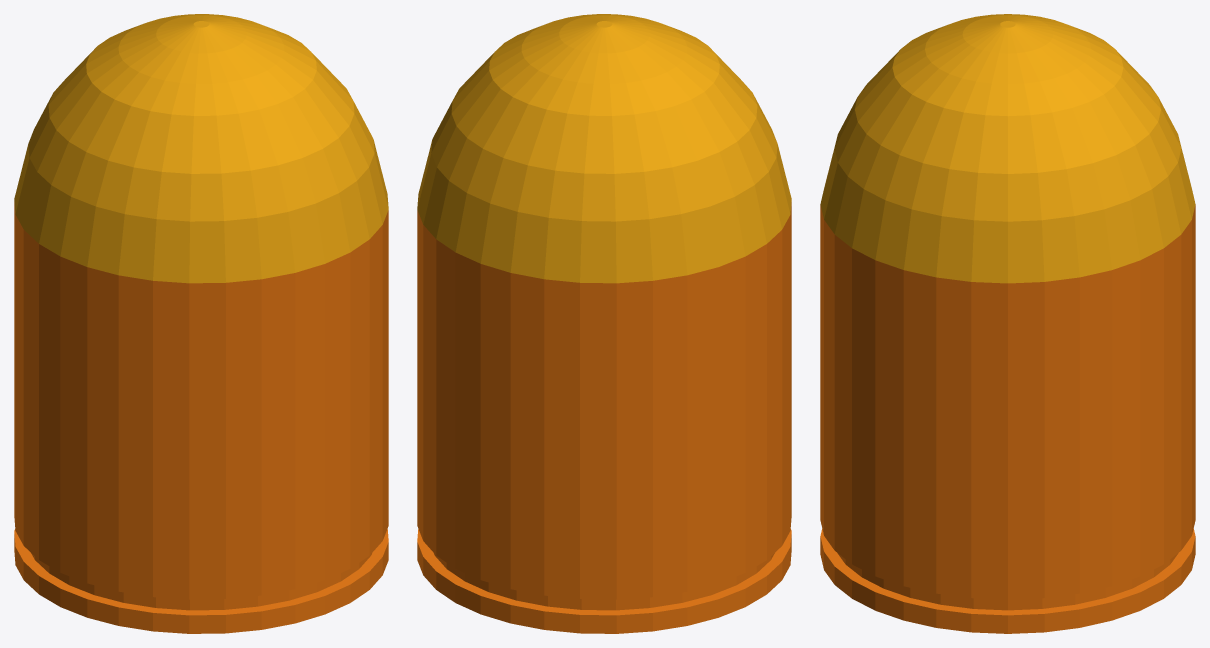
File: Bullet.fbx
3 views of the same model, side by side, from view 1: azimuth 30°, elevation 25°; view 2: azimuth 150°, elevation 25°; view 3: azimuth 270°, elevation 25° (orthographic).
Visible parts, largest first — view 1: Bullet; view 2: Bullet; view 3: Bullet.
Boxes of the visible parts, x1=… form: Bullet: x1=14, y1=14, x2=388, y2=633; Bullet: x1=417, y1=14, x2=791, y2=633; Bullet: x1=820, y1=14, x2=1195, y2=633.
Size of the model in its own units: 0.1209 by 0.1886 by 0.1209.
